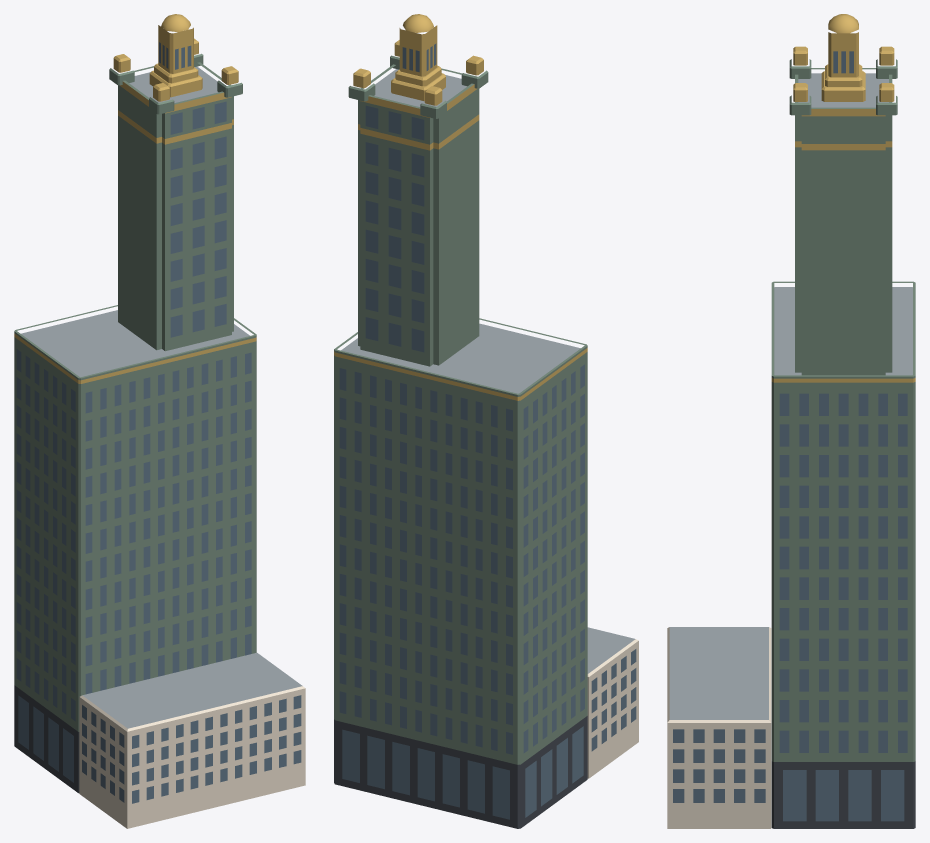
The model's file is chi-carbide-carbon.glb.
The picture shows the model from 3 angles, left to right: view 1: azimuth 30°, elevation 25°; view 2: azimuth 150°, elevation 25°; view 3: azimuth 270°, elevation 25°; orthographic projection. The views are drawn at different scales.
Visible parts, largest first — view 1: Carbide & Carbon Building; view 2: Carbide & Carbon Building; view 3: Carbide & Carbon Building.
Boxes of the visible parts, x1,y1,x2,y2 form: Carbide & Carbon Building: (14, 14, 305, 828); Carbide & Carbon Building: (334, 14, 638, 828); Carbide & Carbon Building: (667, 14, 915, 828).
Size of the model in its own units: 39.68 by 153 by 43.88.
